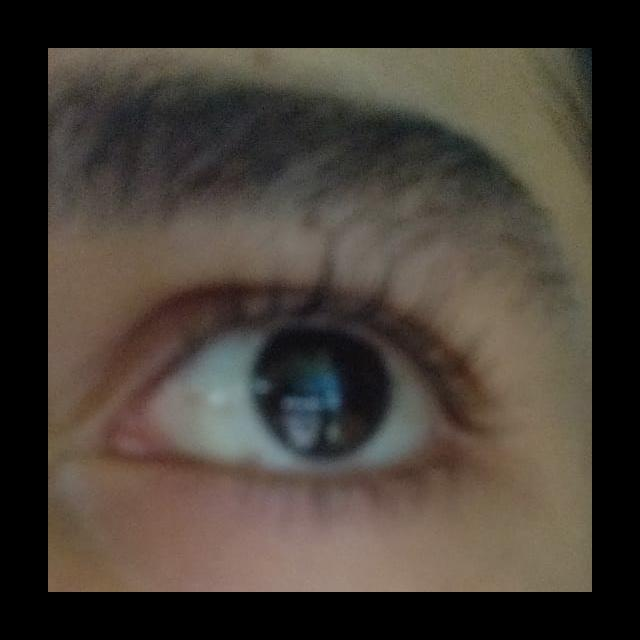eye: (145, 320, 440, 477)
iris: (253, 330, 393, 459)
